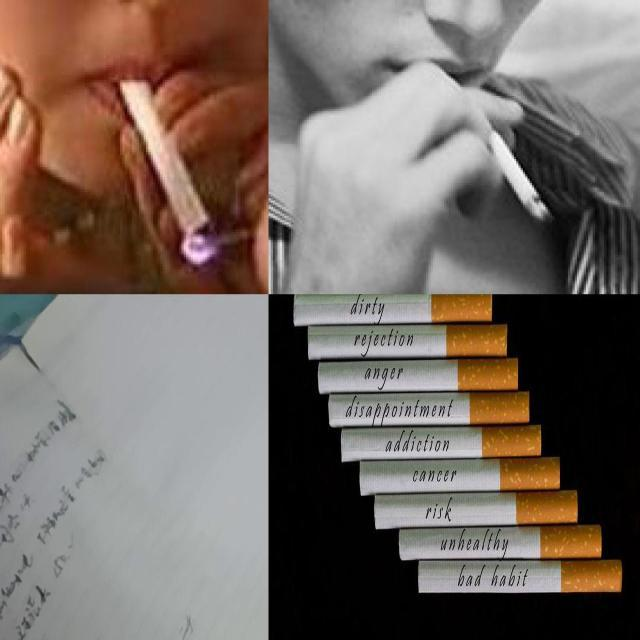smoking: (120, 76, 216, 240), (476, 108, 550, 218), (359, 456, 561, 496), (317, 357, 518, 395), (341, 424, 542, 462), (374, 491, 578, 528), (398, 524, 602, 560), (328, 392, 530, 428), (418, 560, 623, 594), (306, 326, 508, 360), (293, 294, 493, 328)
